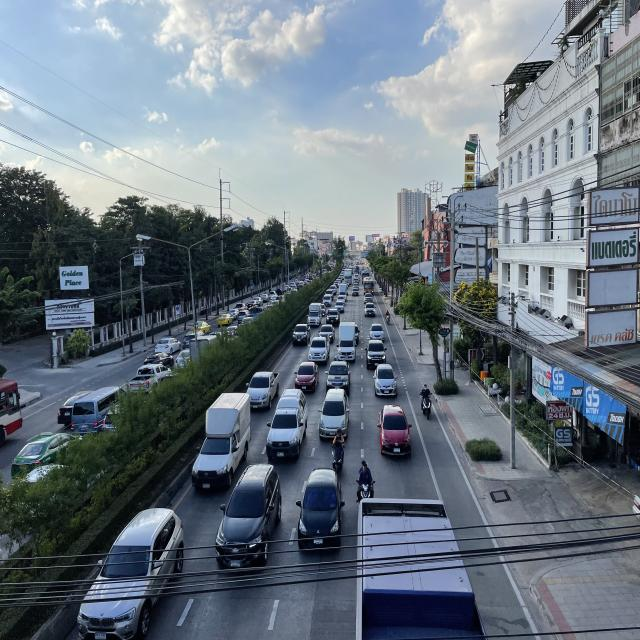bike: (356, 460, 375, 513), (330, 428, 346, 475), (419, 384, 433, 421)
car: (76, 504, 185, 640), (214, 463, 282, 570), (295, 468, 345, 554), (377, 404, 413, 460), (318, 387, 351, 443), (245, 371, 280, 410), (325, 360, 351, 397), (372, 364, 399, 398), (294, 362, 319, 392), (364, 339, 387, 370), (292, 324, 310, 346)
truck: (191, 392, 251, 492), (266, 388, 308, 462), (337, 322, 357, 364), (308, 332, 330, 365), (306, 302, 322, 327)
